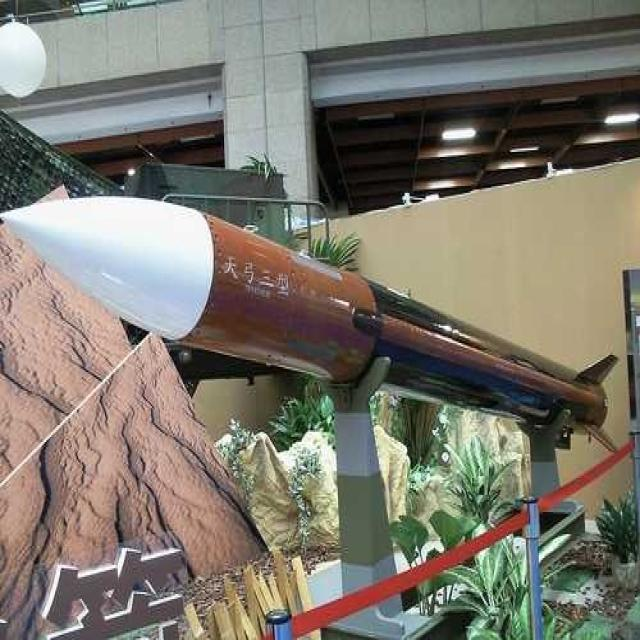missile: (4, 178, 619, 476)
